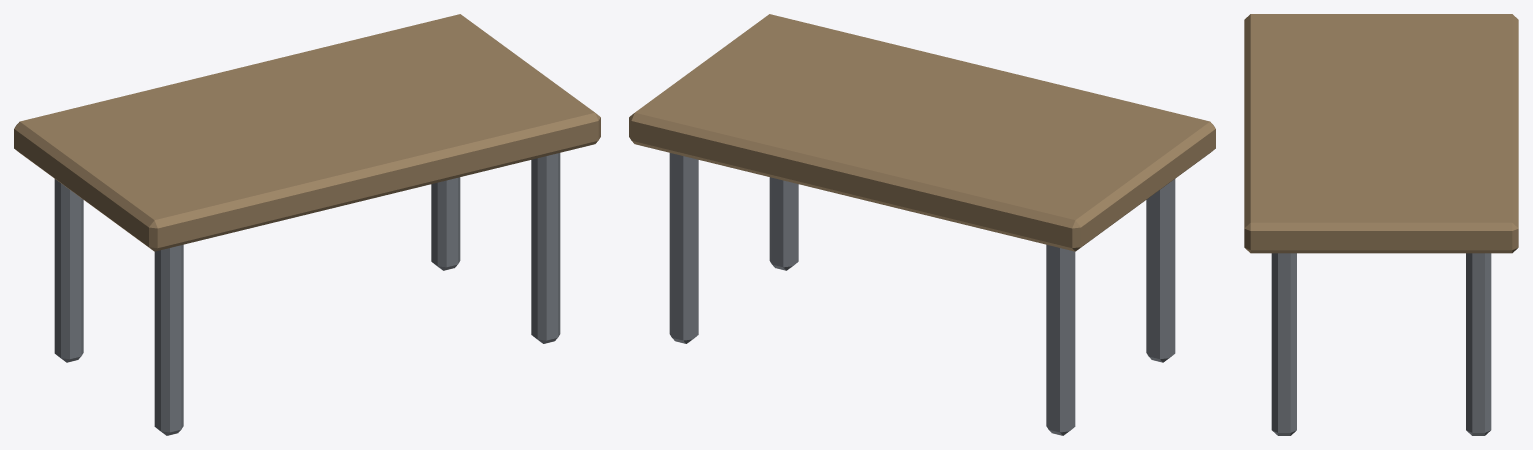
File: coffee_table.glb
3 views of the same model, side by side, from view 1: azimuth 30°, elevation 25°; view 2: azimuth 150°, elevation 25°; view 3: azimuth 270°, elevation 25° (orthographic). The views are drawn at different scales.
Visible parts, largest first — view 1: coffee_table; view 2: coffee_table; view 3: coffee_table.
Boxes of the visible parts, box(x1,y1,x2,y2) form: coffee_table: box(14, 14, 600, 435); coffee_table: box(629, 14, 1215, 435); coffee_table: box(1244, 14, 1518, 435).
Bounding box in the file's own units: 1.2 × 0.59 × 0.65.
